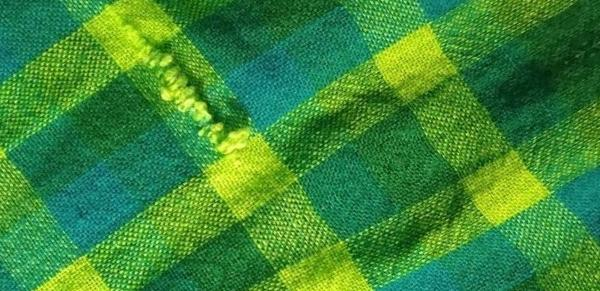knot: (108, 7, 257, 162)
